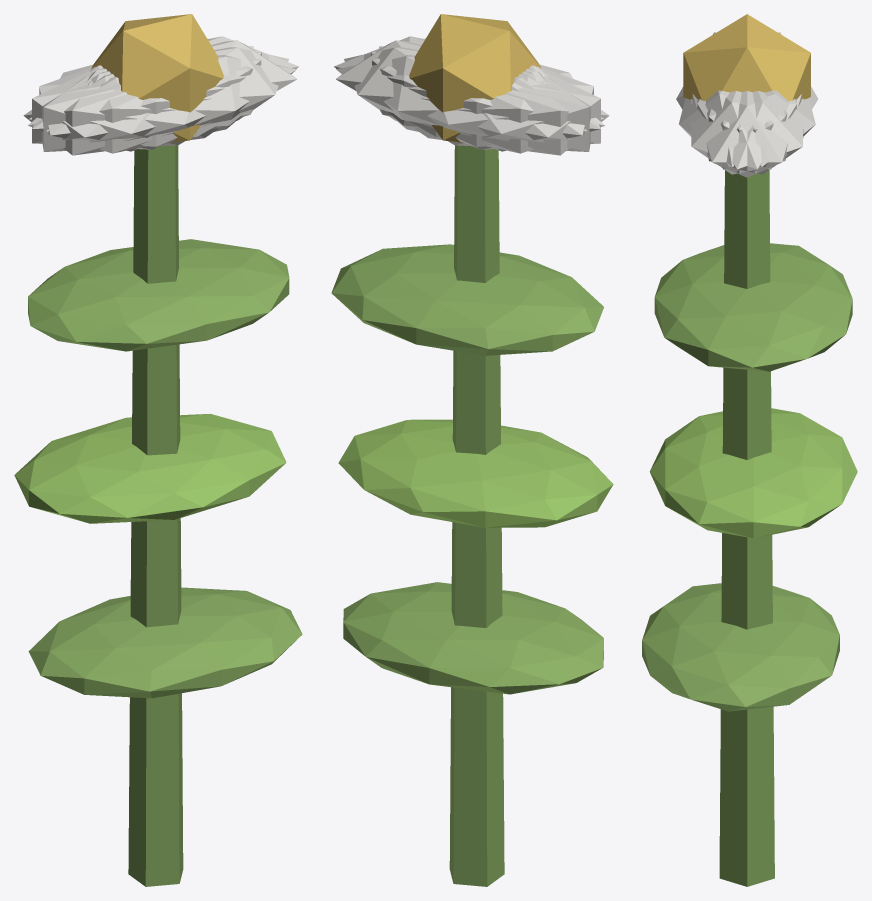
File: vitex-quinata.glb
3 renders of one model, left to right at view 1: azimuth 30°, elevation 25°; view 2: azimuth 150°, elevation 25°; view 3: azimuth 270°, elevation 25°, orthographic.
Visible parts, largest first — view 1: stem, leaf0, leaf1, leaf2, center, petal1, petal6, petal2, petal5, petal7, petal0, petal4 (+2 smaller); view 2: stem, leaf2, leaf1, leaf0, center, petal8, petal3, petal7, petal4, petal2, petal0, petal5 (+2 smaller); view 3: stem, leaf2, leaf1, leaf0, center, petal0, petal4, petal5, petal1, petal8.
Boxes of the visible parts, left/top/right/bottom form: stem: left=128, top=145, right=183, bottom=886; leaf0: left=28, top=587, right=302, bottom=698; leaf1: left=14, top=413, right=286, bottom=523; leaf2: left=28, top=239, right=289, bottom=351; center: left=91, top=14, right=223, bottom=142; petal1: left=28, top=55, right=296, bottom=153; petal6: left=23, top=67, right=217, bottom=155; petal2: left=42, top=46, right=253, bottom=151; petal5: left=46, top=47, right=288, bottom=146; petal7: left=32, top=52, right=261, bottom=149; petal0: left=91, top=40, right=296, bottom=137; petal4: left=29, top=36, right=298, bottom=128; stem: left=449, top=145, right=504, bottom=886; leaf2: left=331, top=244, right=603, bottom=355; leaf1: left=338, top=419, right=613, bottom=527; leaf0: left=343, top=582, right=603, bottom=694; center: left=409, top=14, right=541, bottom=142; petal8: left=336, top=55, right=605, bottom=153; petal3: left=415, top=67, right=609, bottom=155; petal7: left=379, top=46, right=590, bottom=151; petal4: left=344, top=47, right=586, bottom=146; petal2: left=371, top=52, right=600, bottom=149; petal0: left=336, top=40, right=541, bottom=137; petal5: left=334, top=36, right=603, bottom=129; stem: left=719, top=170, right=774, bottom=886; leaf2: left=654, top=243, right=852, bottom=371; leaf1: left=649, top=408, right=857, bottom=538; leaf0: left=642, top=583, right=839, bottom=711; center: left=683, top=14, right=810, bottom=101; petal0: left=692, top=91, right=801, bottom=177; petal4: left=697, top=91, right=803, bottom=174; petal5: left=691, top=91, right=796, bottom=174; petal1: left=679, top=90, right=787, bottom=166; petal8: left=707, top=90, right=815, bottom=166.
Bounding box in the file's own units: 0.1452 × 0.4473 × 0.1036.
